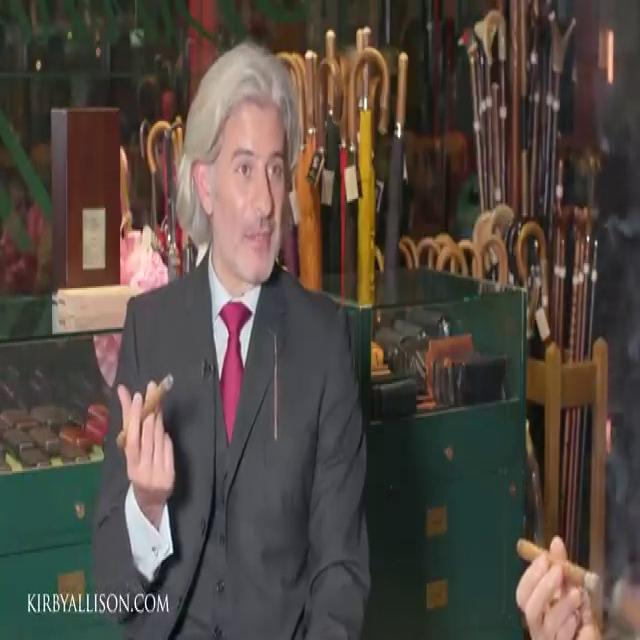Smooking: (108, 359, 186, 472)
